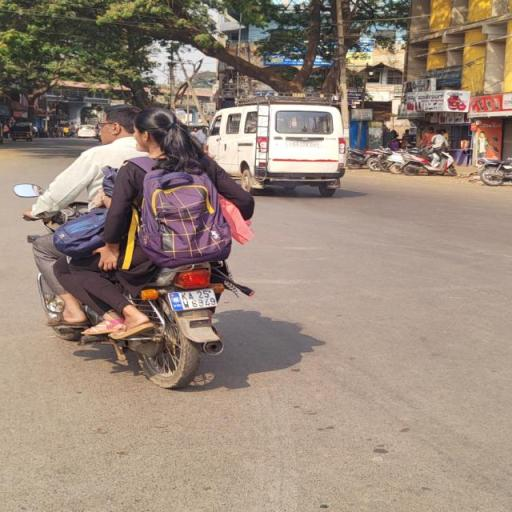bike: (10, 96, 264, 391)
numberplate: (166, 284, 222, 312)
withouthelmet: (136, 106, 178, 151), (104, 105, 135, 141)
